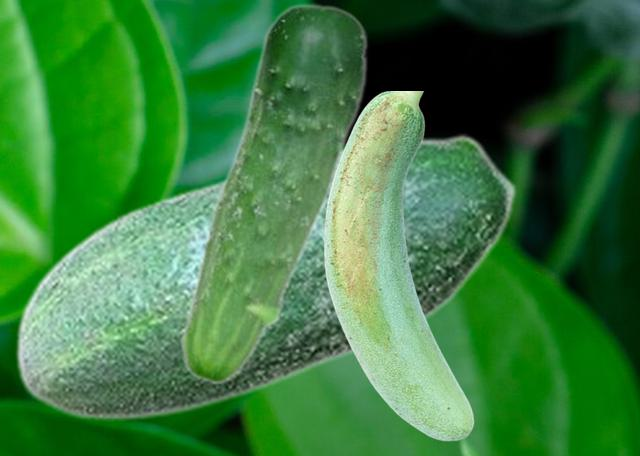cucumber: (14, 133, 517, 420), (178, 3, 368, 384), (323, 91, 473, 440)
